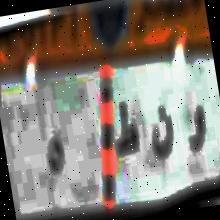5: (40, 131, 69, 180)
Taa: (108, 96, 142, 164)
noon: (144, 99, 178, 170)
waw: (181, 98, 212, 160)
